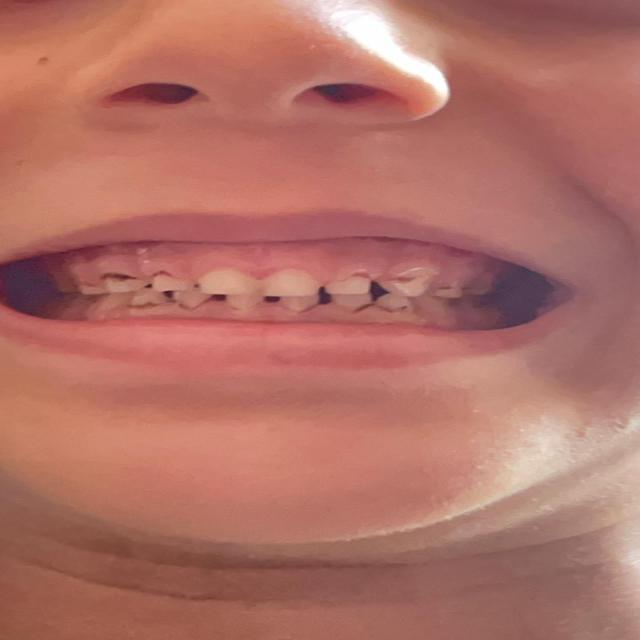tooth: (200, 271, 252, 295), (260, 278, 320, 296), (327, 281, 374, 297), (390, 278, 428, 294), (107, 276, 142, 290), (228, 292, 258, 308), (329, 296, 362, 310), (146, 278, 178, 292), (278, 299, 318, 310), (98, 294, 127, 308), (141, 292, 163, 306), (381, 297, 406, 309), (182, 295, 206, 307), (76, 284, 100, 294), (438, 284, 462, 294)
